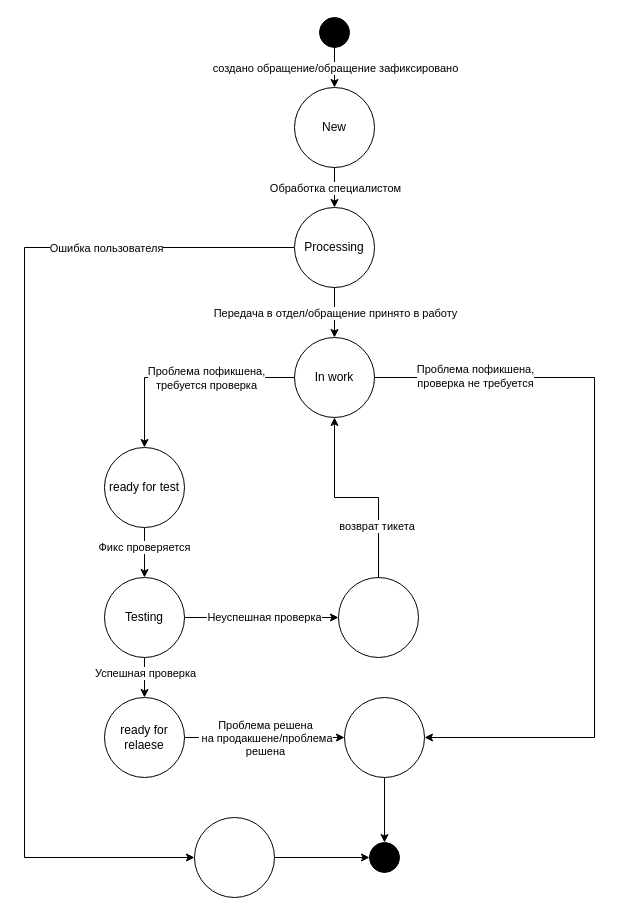
The diagram is 620 pixels wide and 915 high, and some of its shapes have lost their labels. Here are the shapes that lost their labels. From the top down, the centre of each, then its label:
pixel 378 617: Need fixing
pixel 384 737: Problem is solved
pixel 234 857: Canceled
